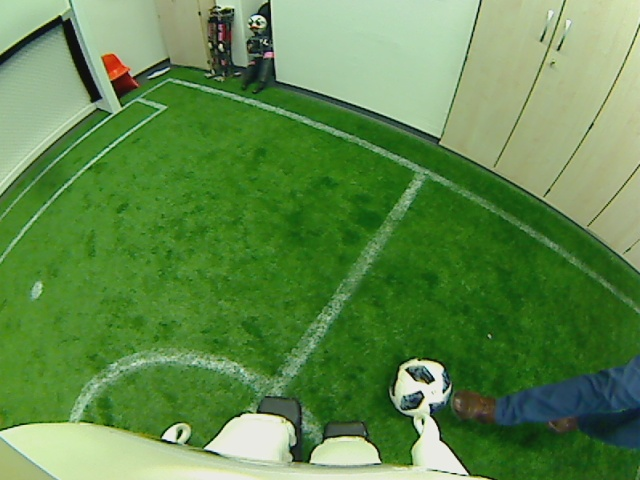ball: (388, 356, 456, 419)
